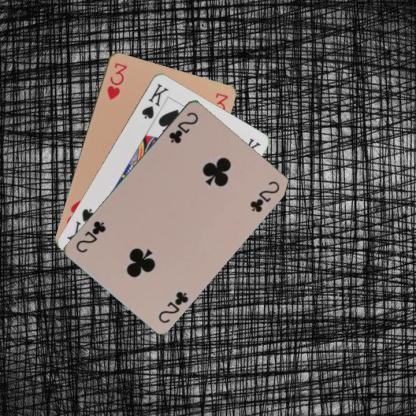2c: (166, 109, 200, 145), (156, 288, 190, 324)
3h: (104, 60, 128, 101)
Ks: (139, 80, 170, 120)
